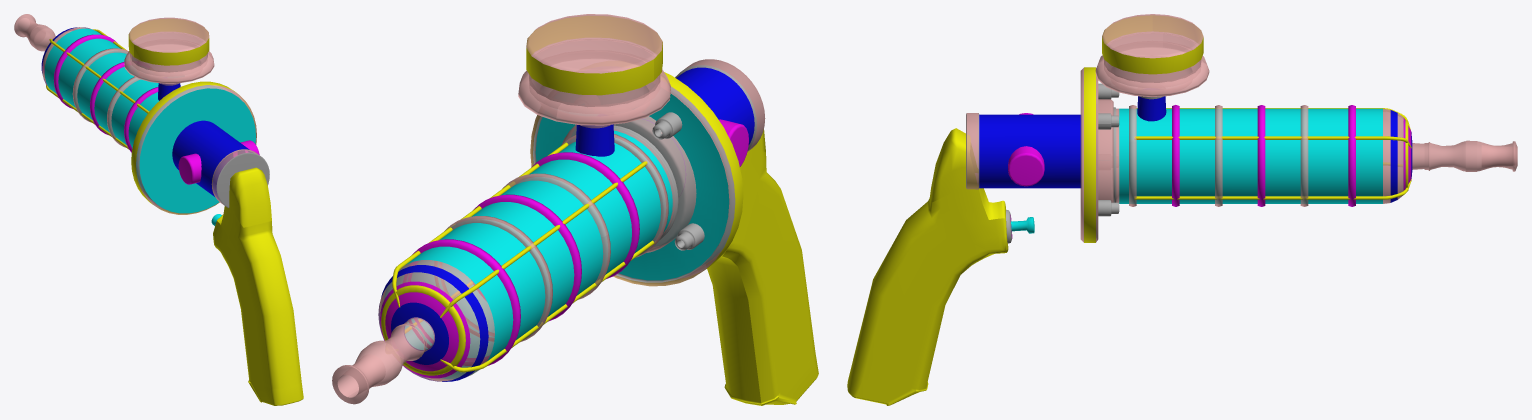
Rendered from rayGun.fbx.
3 views of the same model, side by side, from view 1: azimuth 30°, elevation 25°; view 2: azimuth 150°, elevation 25°; view 3: azimuth 270°, elevation 25° (orthographic). The views are drawn at different scales.
Parts seen in each view (by area): view 1: polySurface307; view 2: polySurface307; view 3: polySurface307.
Boxes of the visible parts, bbox=[...] form: polySurface307: bbox=[14, 14, 303, 405]; polySurface307: bbox=[332, 14, 818, 405]; polySurface307: bbox=[847, 14, 1517, 405].
Bounding box in the file's own units: 10.99 × 25.03 × 41.96.
